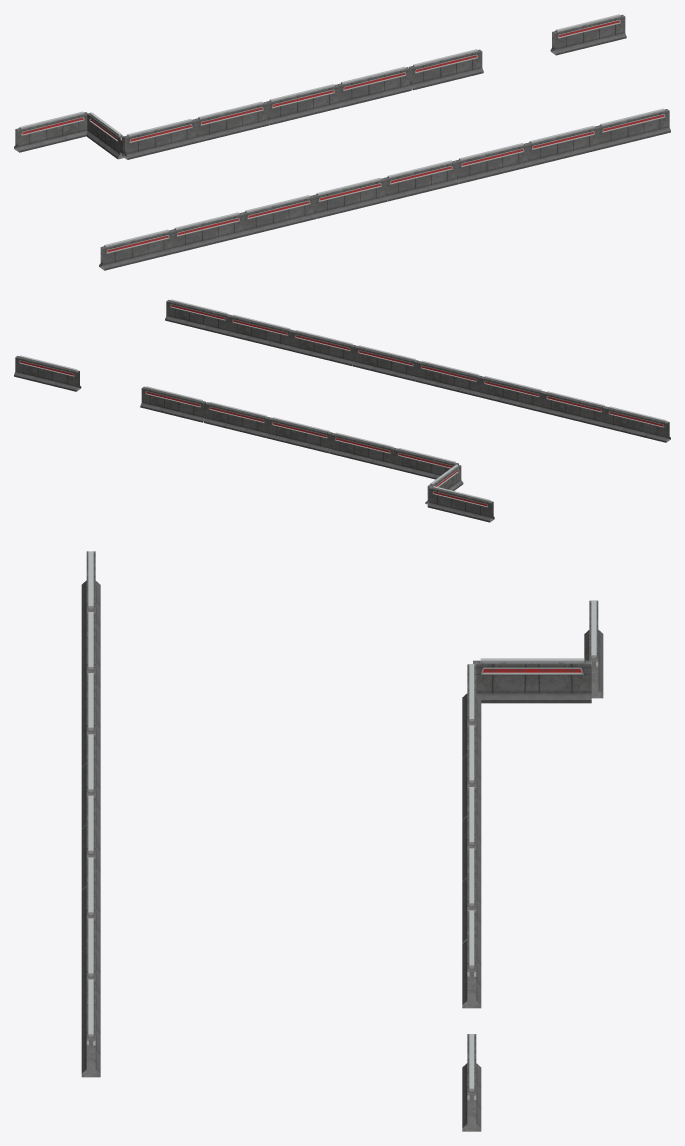
File: RailWallBridge3Upper.fbx
3 views of the same model, one above another, from view 1: azimuth 30°, elevation 25°; view 2: azimuth 150°, elevation 25°; view 3: azimuth 270°, elevation 25° (orthographic). The views are drawn at different scales.
Parts seen in each view (by area): view 1: RailWallBridge3Upper; view 2: RailWallBridge3Upper; view 3: RailWallBridge3Upper.
Part boxes in pixels (bbox=[...]): RailWallBridge3Upper: bbox=[14, 14, 670, 270]; RailWallBridge3Upper: bbox=[14, 299, 670, 522]; RailWallBridge3Upper: bbox=[81, 551, 603, 1131].
Size of the model in its own units: 53.52 by 1.83 by 21.72.
